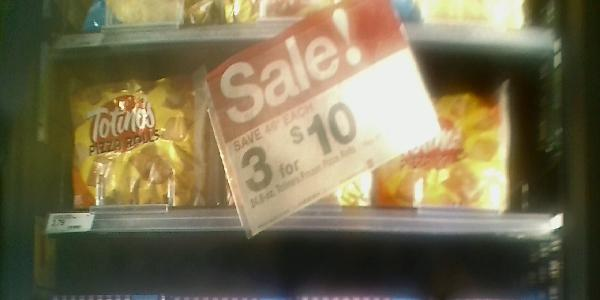icecream: (218, 49, 375, 205), (55, 65, 216, 208), (376, 73, 509, 214)
